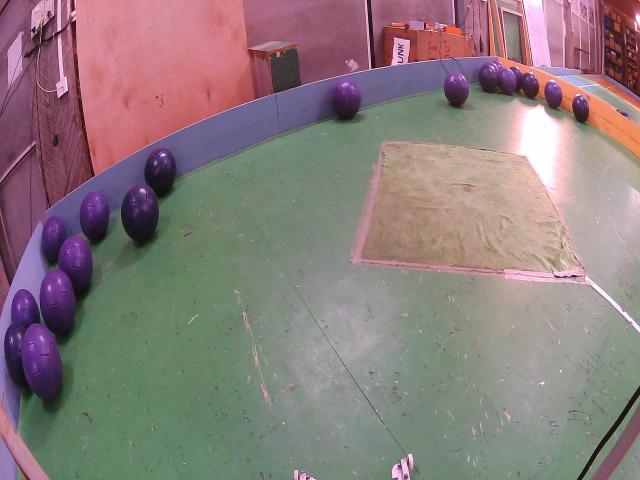jambhalya: (21, 323, 62, 400), (40, 268, 76, 333), (58, 235, 92, 293), (80, 192, 110, 240), (11, 288, 40, 328), (331, 80, 361, 118), (41, 217, 66, 262), (444, 72, 469, 107), (545, 80, 562, 108), (499, 68, 516, 95), (491, 60, 504, 72)
kaalyya: (121, 183, 159, 242), (144, 148, 176, 197), (4, 323, 28, 387), (478, 63, 499, 92), (572, 93, 589, 122), (521, 72, 539, 98), (510, 67, 522, 91)
